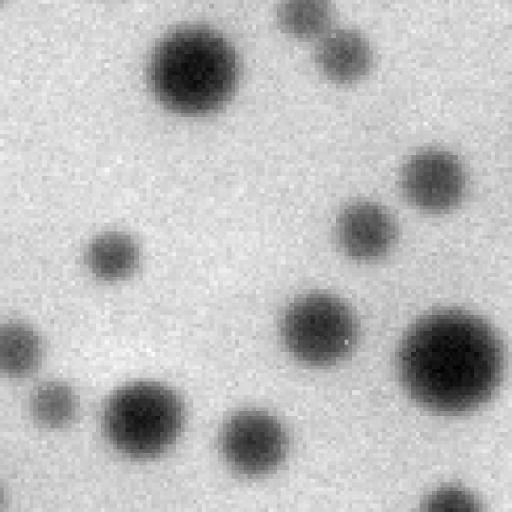Nanoparticles: (396, 307, 508, 419), (149, 22, 243, 119), (95, 376, 194, 466), (280, 286, 362, 372), (391, 138, 473, 218), (214, 402, 293, 484), (336, 203, 400, 264), (82, 227, 148, 284), (320, 30, 374, 89), (262, 0, 348, 37), (24, 383, 83, 432), (0, 314, 42, 382), (413, 481, 482, 512)
